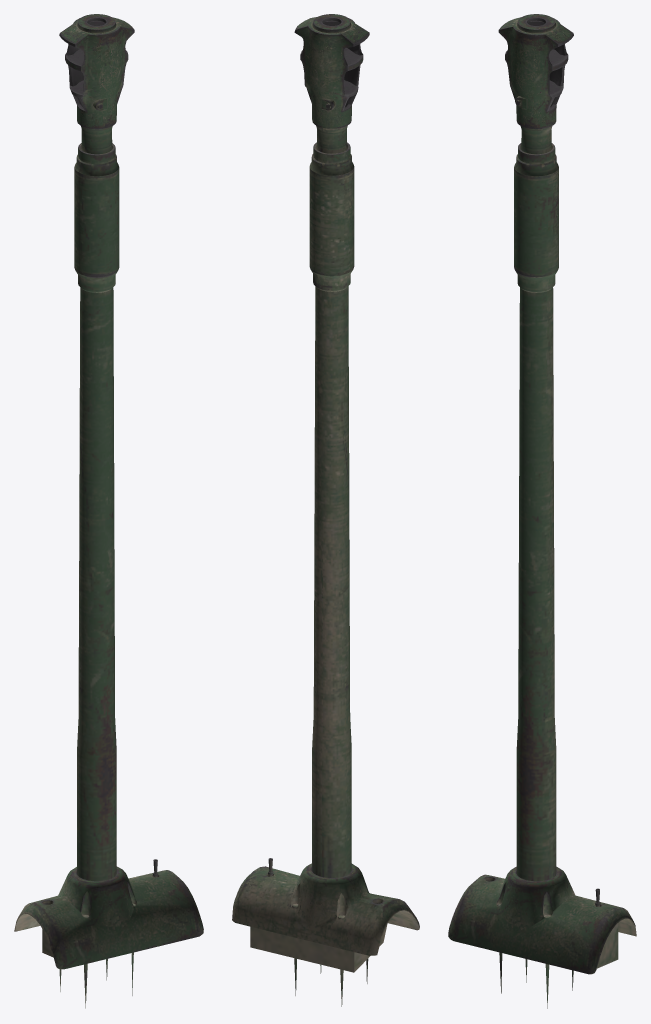
File: Gun_01.glb
The picture shows the model from 3 angles, left to right: view 1: azimuth 30°, elevation 25°; view 2: azimuth 150°, elevation 25°; view 3: azimuth 330°, elevation 25°; orthographic projection.
Parts seen in each view (by area): view 1: set_0_group_0; view 2: set_0_group_0; view 3: set_0_group_0.
Boxes of the visible parts, x1,y1,x2,y2 form: set_0_group_0: (14, 14, 203, 1008); set_0_group_0: (232, 14, 419, 1006); set_0_group_0: (448, 14, 636, 1008).
Bounding box in the file's own units: 1.06 × 6.67 × 0.5611.
Materials: 1 (1 with a texture image).
